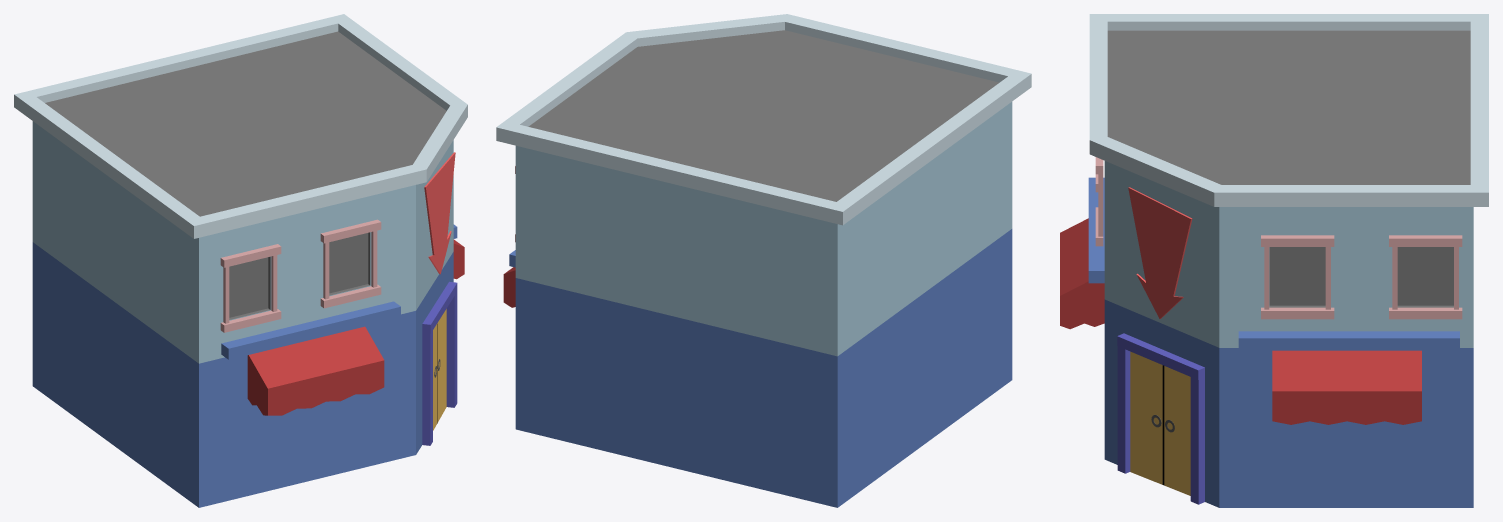
Rendered from Bld_Arrow.fbx.
3 views of the same model, side by side, from view 1: azimuth 30°, elevation 25°; view 2: azimuth 150°, elevation 25°; view 3: azimuth 270°, elevation 25° (orthographic). The views are drawn at different scales.
Visible parts, largest first — view 1: Cube.201; view 2: Cube.201; view 3: Cube.201.
Boxes of the visible parts, x1=… form: Cube.201: x1=14, y1=14, x2=467, y2=507; Cube.201: x1=496, y1=14, x2=1031, y2=507; Cube.201: x1=1060, y1=14, x2=1488, y2=507.
Size of the model in its own units: 674 by 528 by 638.
